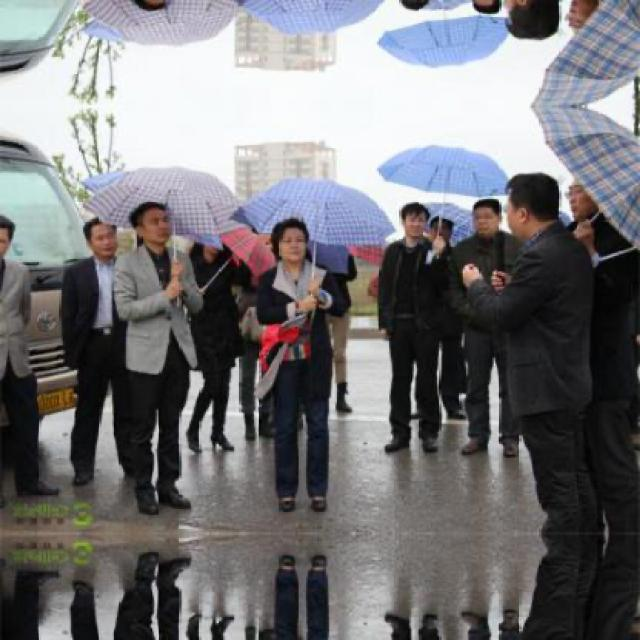sin casco: (504, 161, 580, 247), (53, 208, 125, 288), (266, 214, 322, 278), (128, 196, 185, 257), (384, 197, 446, 245)
